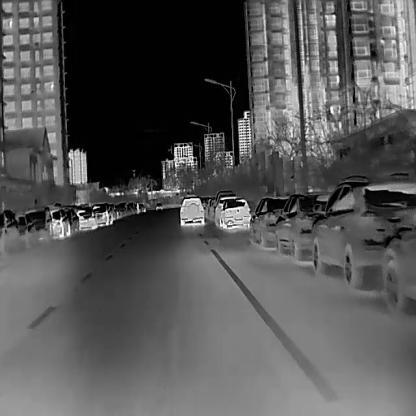car: (310, 172, 415, 290), (273, 193, 333, 261), (247, 196, 287, 249), (218, 196, 251, 227), (26, 206, 53, 242), (0, 208, 20, 254), (47, 200, 70, 238), (15, 211, 36, 249), (179, 193, 203, 225), (76, 207, 97, 229), (92, 202, 109, 225), (155, 201, 162, 209), (135, 202, 139, 214)
